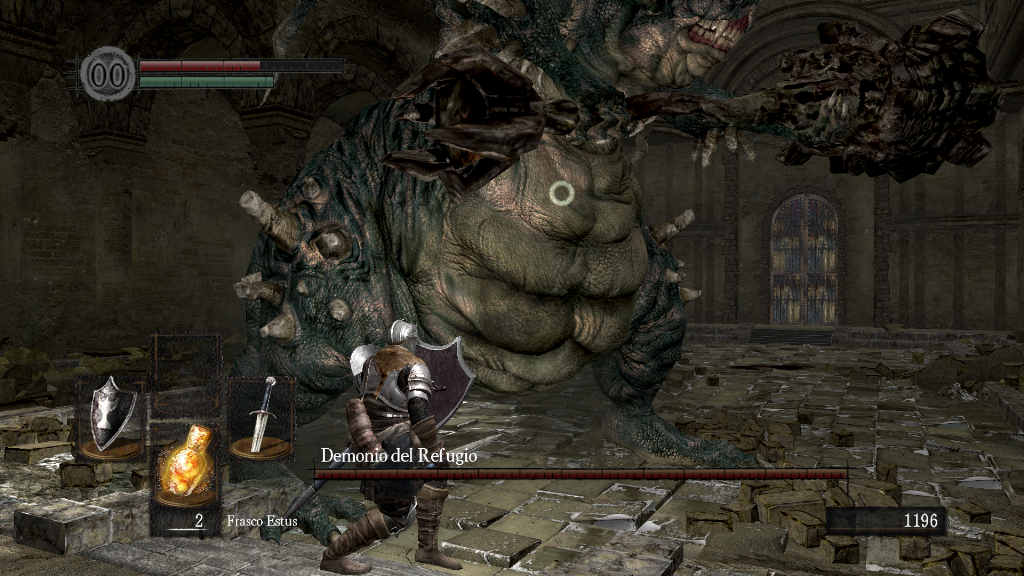asylumDemon: (220, 3, 997, 545)
bossHP: (314, 469, 847, 479)
health: (138, 58, 343, 71)
humanity: (80, 45, 136, 102)
player: (317, 317, 478, 576)
souls: (825, 506, 945, 536)
stamina: (138, 74, 274, 88)
